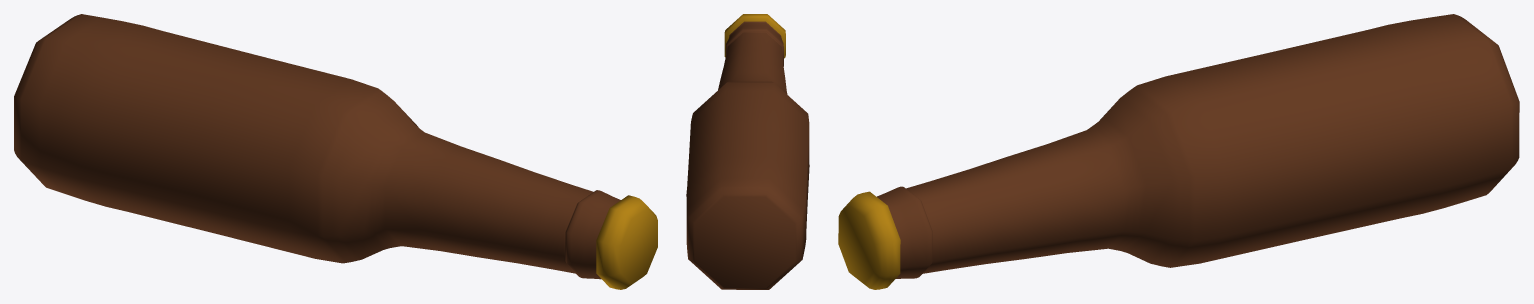
Rendered from Drink Bottle.fbx.
3 renders of one model, left to right at view 1: azimuth 30°, elevation 25°; view 2: azimuth 150°, elevation 25°; view 3: azimuth 270°, elevation 25°, orthographic. The views are drawn at different scales.
Visible parts, largest first — view 1: Bottle_On Table2; view 2: Bottle_On Table2; view 3: Bottle_On Table2.
Part boxes in pixels (left/top/right/bottom): Bottle_On Table2: left=14, top=14, right=657, bottom=289; Bottle_On Table2: left=686, top=14, right=809, bottom=289; Bottle_On Table2: left=838, top=14, right=1519, bottom=289.
Bounding box in the file's own units: 22.55 × 9.03 × 34.43.
